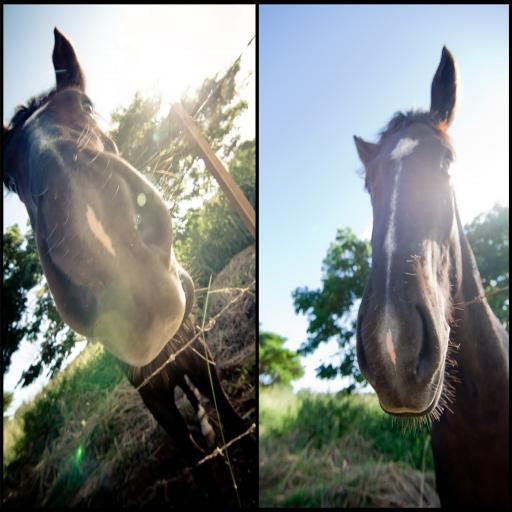horse: (0, 21, 248, 482), (354, 40, 510, 511)
